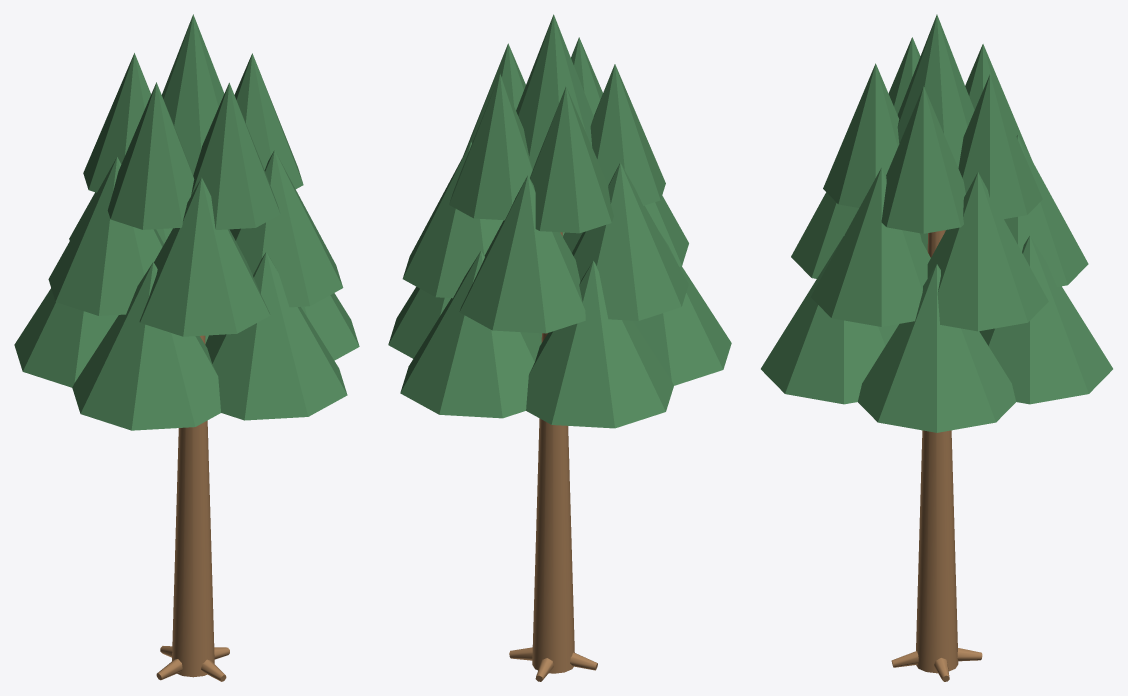
Rendered from tree_pine.glb.
3 renders of one model, left to right at view 1: azimuth 30°, elevation 25°; view 2: azimuth 150°, elevation 25°; view 3: azimuth 270°, elevation 25°, orthographic.
Visible parts, largest first — view 1: Pine_Needle_Tuft_0_3, Pine_Needle_Tuft_0_4, Pine_Needle_Tuft_1_3, Pine_Tall_Trunk, Pine_Needle_Tuft_1_2, Pine_Needle_Tuft_2_2, Pine_Needle_Tuft_1_4, Pine_Needle_Tuft_2_3, Pine_Needle_Tuft_0_2, Pine_Leader, Pine_Needle_Tuft_2_1, Pine_Needle_Tuft_2_4 (+1 smaller); view 2: Pine_Needle_Tuft_0_2, Pine_Needle_Tuft_0_1, Pine_Needle_Tuft_1_1, Pine_Needle_Tuft_1_2, Pine_Tall_Trunk, Pine_Needle_Tuft_2_1, Pine_Needle_Tuft_2_0, Pine_Needle_Tuft_1_0, Pine_Needle_Tuft_0_3, Pine_Needle_Tuft_2_2, Pine_Leader, Pine_Needle_Tuft_0_0 (+3 smaller); view 3: Pine_Needle_Tuft_0_0, Pine_Needle_Tuft_1_0, Pine_Needle_Tuft_1_4, Pine_Needle_Tuft_0_1, Pine_Tall_Trunk, Pine_Needle_Tuft_0_4, Pine_Needle_Tuft_2_4, Pine_Needle_Tuft_2_0, Pine_Needle_Tuft_2_3, Pine_Leader, Pine_Needle_Tuft_1_1, Pine_Needle_Tuft_1_3 (+2 smaller).
Part boxes in pixels (<box>): Pine_Needle_Tuft_0_3: <box>72,262,220,430</box>; Pine_Needle_Tuft_0_4: <box>205,252,347,420</box>; Pine_Needle_Tuft_1_3: <box>139,177,270,336</box>; Pine_Tall_Trunk: <box>172,335,214,677</box>; Pine_Needle_Tuft_1_2: <box>48,157,163,315</box>; Pine_Needle_Tuft_2_2: <box>107,82,194,229</box>; Pine_Needle_Tuft_1_4: <box>229,150,343,307</box>; Pine_Needle_Tuft_2_3: <box>191,82,280,229</box>; Pine_Needle_Tuft_0_2: <box>14,288,118,387</box>; Pine_Leader: <box>162,14,224,175</box>; Pine_Needle_Tuft_2_1: <box>83,53,150,192</box>; Pine_Needle_Tuft_2_4: <box>234,53,303,188</box>; Pine_Needle_Tuft_0_2: <box>526,261,673,428</box>; Pine_Needle_Tuft_0_1: <box>400,250,541,418</box>; Pine_Needle_Tuft_1_1: <box>459,175,585,333</box>; Pine_Needle_Tuft_1_2: <box>572,162,688,320</box>; Pine_Tall_Trunk: <box>532,232,574,673</box>; Pine_Needle_Tuft_2_1: <box>530,86,613,233</box>; Pine_Needle_Tuft_2_0: <box>449,74,532,220</box>; Pine_Needle_Tuft_1_0: <box>402,142,503,298</box>; Pine_Needle_Tuft_0_3: <box>633,233,731,385</box>; Pine_Needle_Tuft_2_2: <box>590,64,665,205</box>; Pine_Leader: <box>516,14,593,168</box>; Pine_Needle_Tuft_0_0: <box>388,287,541,358</box>; Pine_Needle_Tuft_0_0: <box>858,264,1015,432</box>; Pine_Needle_Tuft_1_0: <box>927,172,1048,331</box>; Pine_Needle_Tuft_1_4: <box>811,167,930,326</box>; Pine_Needle_Tuft_0_1: <box>979,235,1112,404</box>; Pine_Tall_Trunk: <box>916,230,958,673</box>; Pine_Needle_Tuft_0_4: <box>761,235,898,404</box>; Pine_Needle_Tuft_2_4: <box>881,86,965,233</box>; Pine_Needle_Tuft_2_0: <box>958,74,1042,219</box>; Pine_Needle_Tuft_2_3: <box>823,63,899,207</box>; Pine_Leader: <box>897,14,974,167</box>; Pine_Needle_Tuft_1_1: <box>1004,135,1088,286</box>; Pine_Needle_Tuft_1_3: <box>791,192,921,278</box>.
Size of the model in its own units: 3.85 by 8.02 by 3.95.
